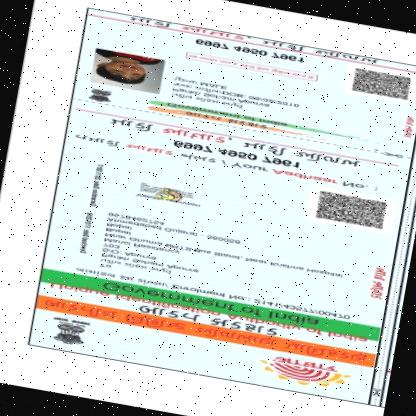aadhaar_card: (22, 2, 415, 415)
